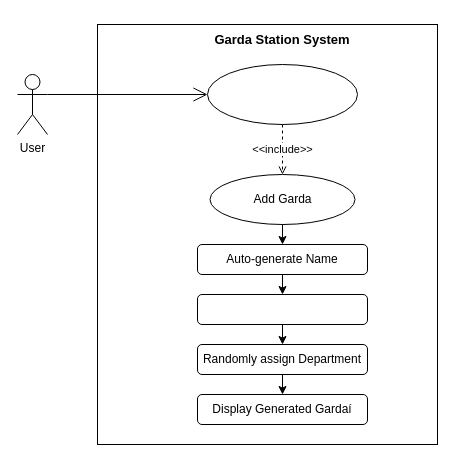
Image size: 455x462. Some labels were removed from this diagram. Here are the shapes that lost their labels. From the top down, the box of each, then its label:
(206, 64, 358, 124): Generate Random Gardaí
(196, 294, 368, 324): Randomly assign Manager
